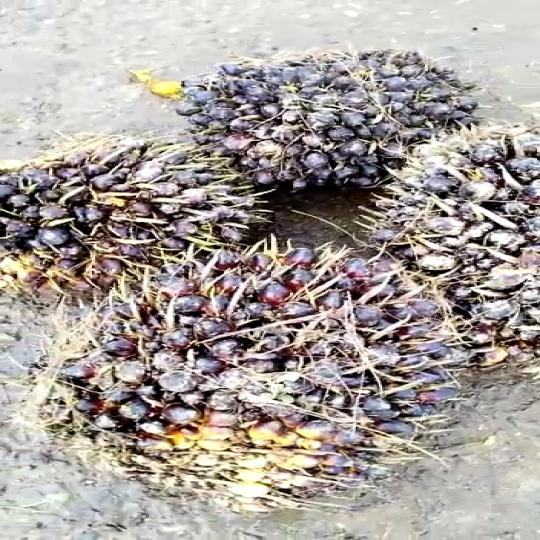mentah: (64, 243, 464, 490), (1, 138, 264, 298), (173, 52, 473, 177), (385, 126, 535, 352)
